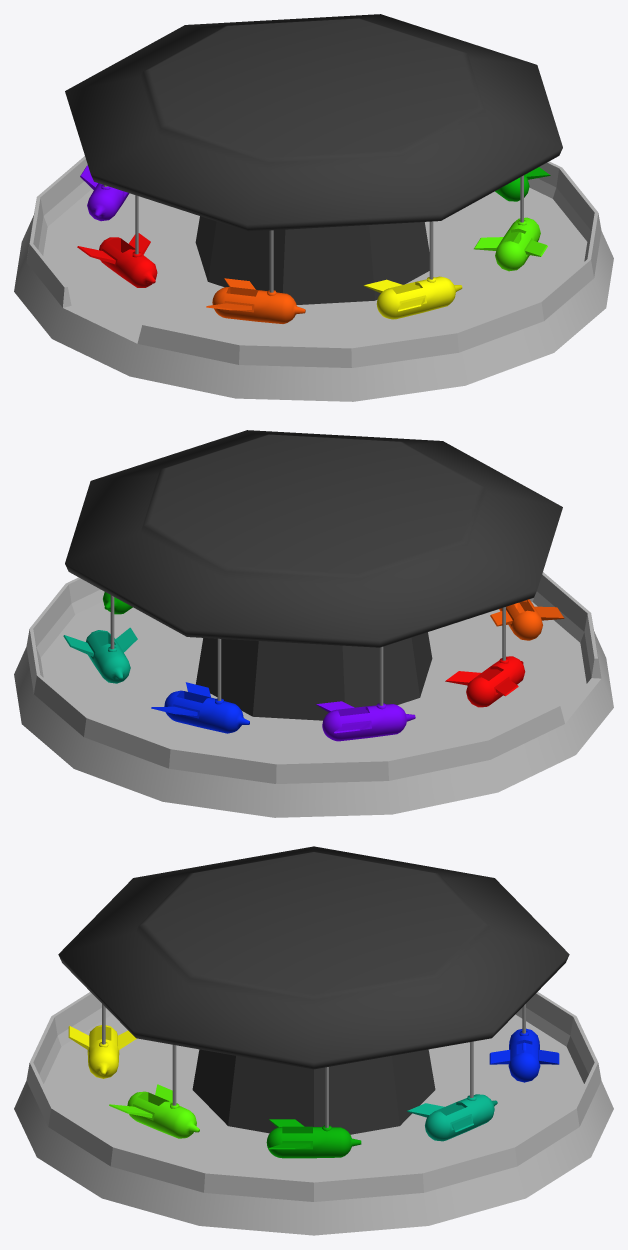
File: carouselStill.FBX
3 views of the same model, one above another, from view 1: azimuth 30°, elevation 25°; view 2: azimuth 150°, elevation 25°; view 3: azimuth 270°, elevation 25° (orthographic).
Parts seen in each view (by area): view 1: carousel_top, carousel_bottom, carousel_seat_002, carousel_seat_003, carousel_seat_01, carousel_seat_004, carousel_seat_008, carousel_seat_005; view 2: carousel_top, carousel_bottom, carousel_seat_008, carousel_seat_007, carousel_seat_01, carousel_seat_006, carousel_seat_002; view 3: carousel_top, carousel_bottom, carousel_seat_005, carousel_seat_004, carousel_seat_006, carousel_seat_007, carousel_seat_003.
Boxes of the visible parts, box(x1,y1,x2,y2) form: carousel_top: box(65, 14, 562, 304); carousel_bottom: box(14, 156, 613, 401); carousel_seat_002: box(206, 278, 305, 323); carousel_seat_003: box(363, 276, 462, 319); carousel_seat_01: box(77, 233, 157, 287); carousel_seat_004: box(474, 217, 547, 271); carousel_seat_008: box(80, 165, 129, 221); carousel_seat_005: box(495, 167, 550, 201); carousel_top: box(65, 430, 562, 720); carousel_bottom: box(14, 572, 613, 817); carousel_seat_008: box(316, 701, 415, 741); carousel_seat_007: box(151, 682, 249, 733); carousel_seat_01: box(445, 656, 525, 707); carousel_seat_006: box(63, 627, 137, 683); carousel_seat_002: box(490, 599, 564, 640); carousel_top: box(58, 846, 569, 1134); carousel_bottom: box(14, 992, 613, 1235); carousel_seat_005: box(266, 1119, 361, 1158); carousel_seat_004: box(109, 1084, 199, 1138); carousel_seat_006: box(407, 1094, 497, 1141); carousel_seat_007: box(489, 1028, 559, 1082); carousel_seat_003: box(68, 1025, 136, 1078).
Bounding box in the file's own units: 28.5 × 9.72 × 28.5.
